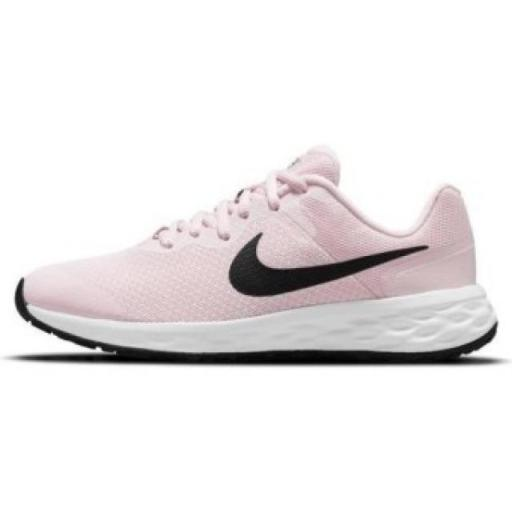Nike: (220, 233, 435, 303)
